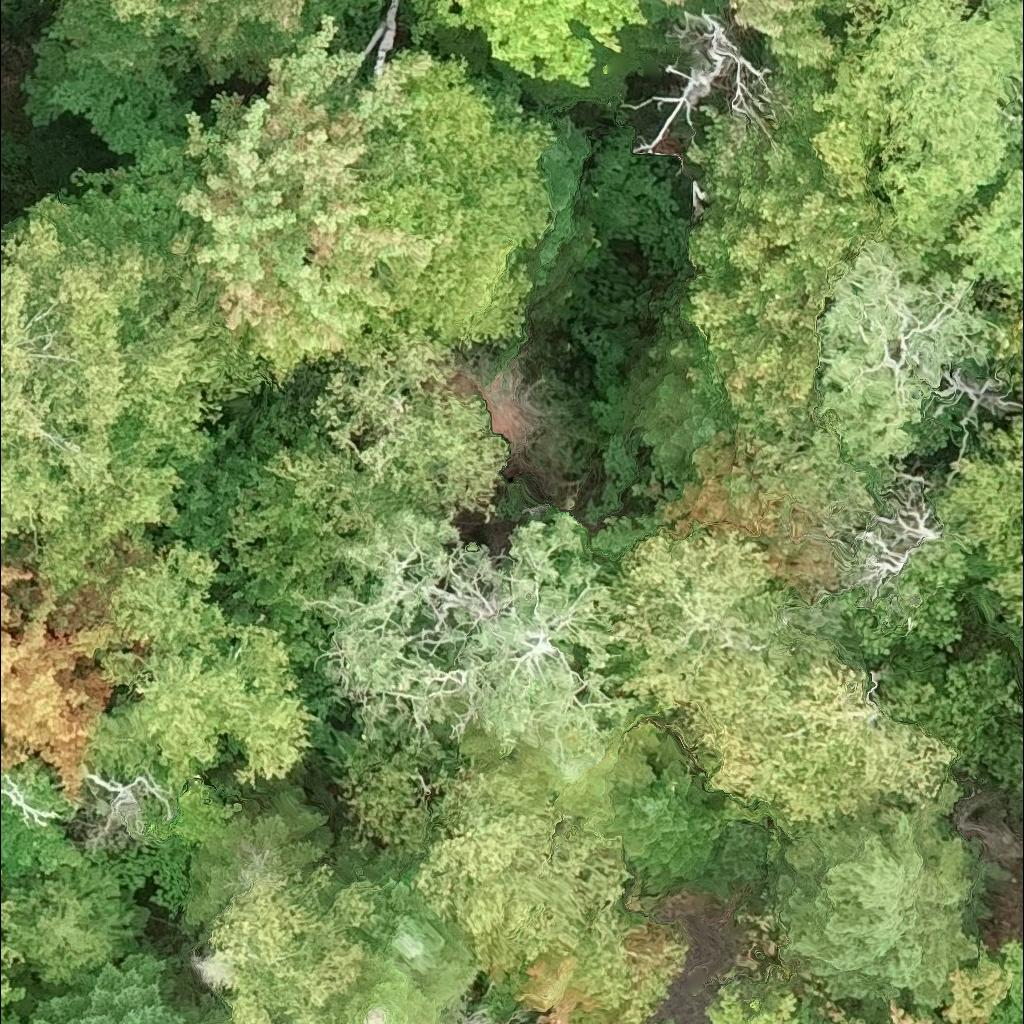crown: (0, 203, 266, 598), (300, 512, 648, 783), (181, 16, 453, 352), (679, 33, 895, 444), (340, 760, 634, 1010), (337, 56, 558, 352), (82, 532, 315, 791), (809, 0, 1023, 280), (21, 0, 382, 159), (678, 634, 957, 823), (780, 780, 981, 1004), (815, 240, 1005, 466), (619, 522, 817, 715), (0, 526, 129, 802), (195, 860, 381, 1023), (474, 904, 685, 1023), (183, 790, 336, 930), (600, 763, 767, 891), (631, 10, 782, 145), (413, 0, 643, 86), (101, 774, 242, 913), (932, 416, 1023, 629), (3, 862, 149, 991), (349, 865, 477, 1006), (842, 473, 944, 604), (888, 939, 1023, 1023), (946, 165, 1023, 298), (52, 955, 183, 1023), (337, 955, 461, 1023), (0, 795, 91, 884), (81, 766, 175, 846), (733, 0, 836, 63), (706, 983, 793, 1023), (110, 0, 205, 34), (0, 900, 29, 1010), (0, 775, 56, 826), (998, 303, 1023, 398), (822, 1004, 868, 1023), (34, 1001, 61, 1023), (460, 1011, 490, 1023), (0, 1010, 25, 1023), (1018, 105, 1023, 135), (506, 1014, 518, 1023), (666, 0, 684, 4)
